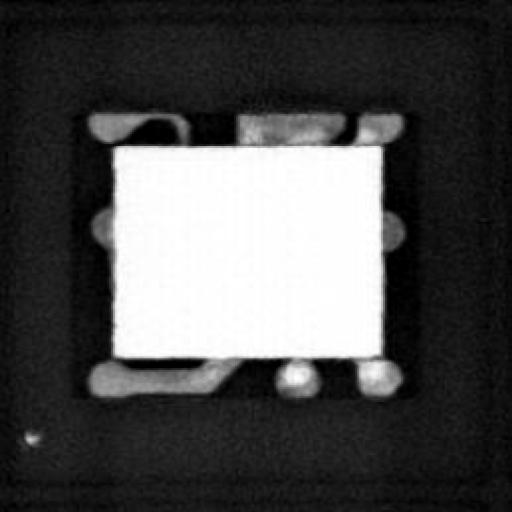DIE_INK: (20, 426, 42, 446)
